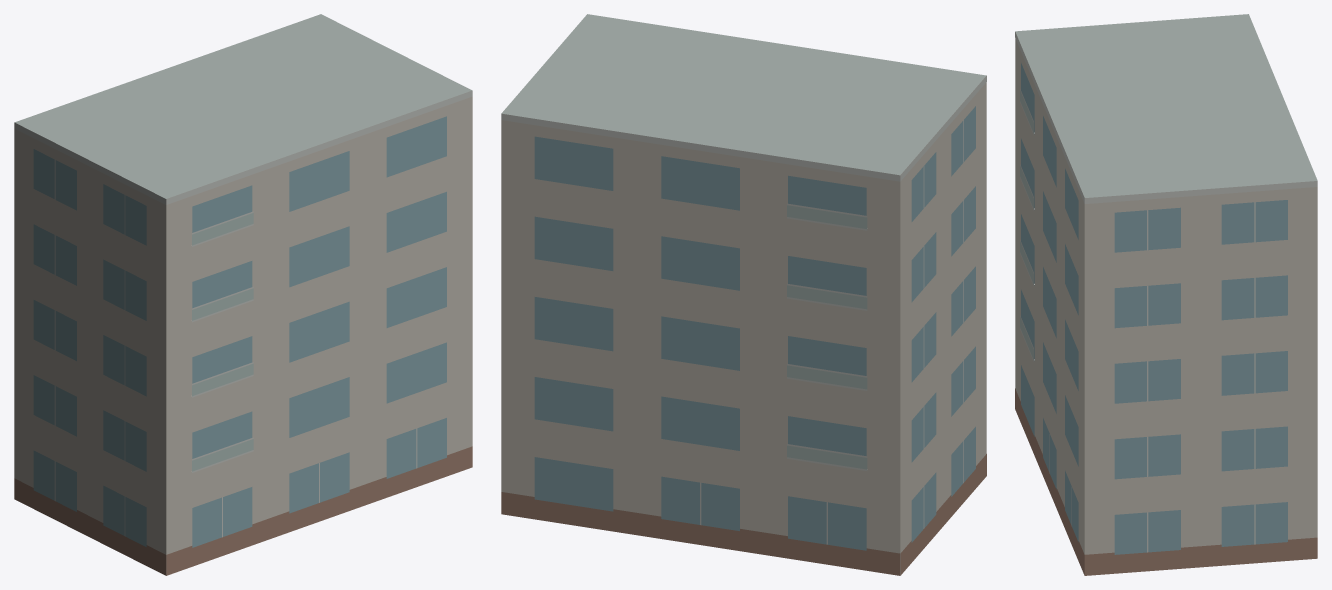
Rendered from survey-upis-32882716.glb.
3 renders of one model, left to right at view 1: azimuth 30°, elevation 25°; view 2: azimuth 150°, elevation 25°; view 3: azimuth 270°, elevation 25°, orthographic. The views are drawn at different scales.
Visible parts, largest first — view 1: survey-upis-32882716.tmp; view 2: survey-upis-32882716.tmp; view 3: survey-upis-32882716.tmp.
Boxes of the visible parts, x1,y1,x2,y2 form: survey-upis-32882716.tmp: (14,14,472,575); survey-upis-32882716.tmp: (501,14,986,575); survey-upis-32882716.tmp: (1015,14,1317,575).
Bounding box in the file's own units: 15.95 × 15.25 × 11.08.
